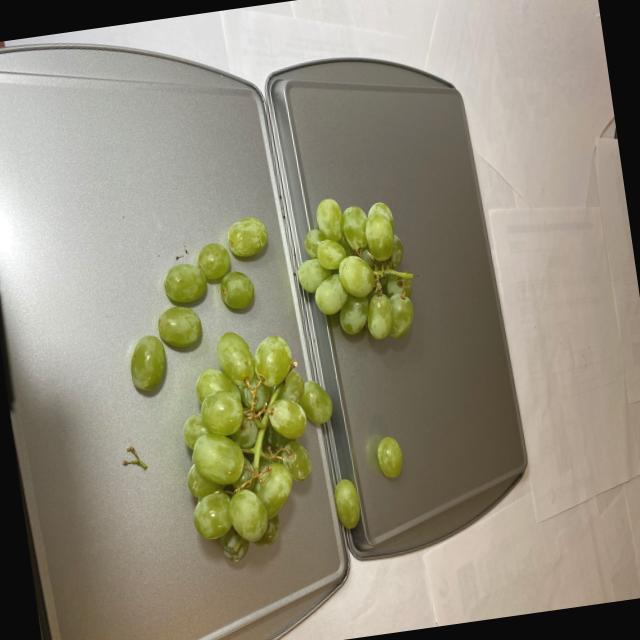grapes: (111, 190, 447, 576)
